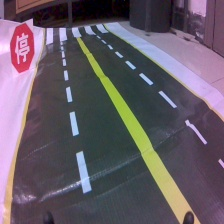stop: (8, 17, 37, 77)
